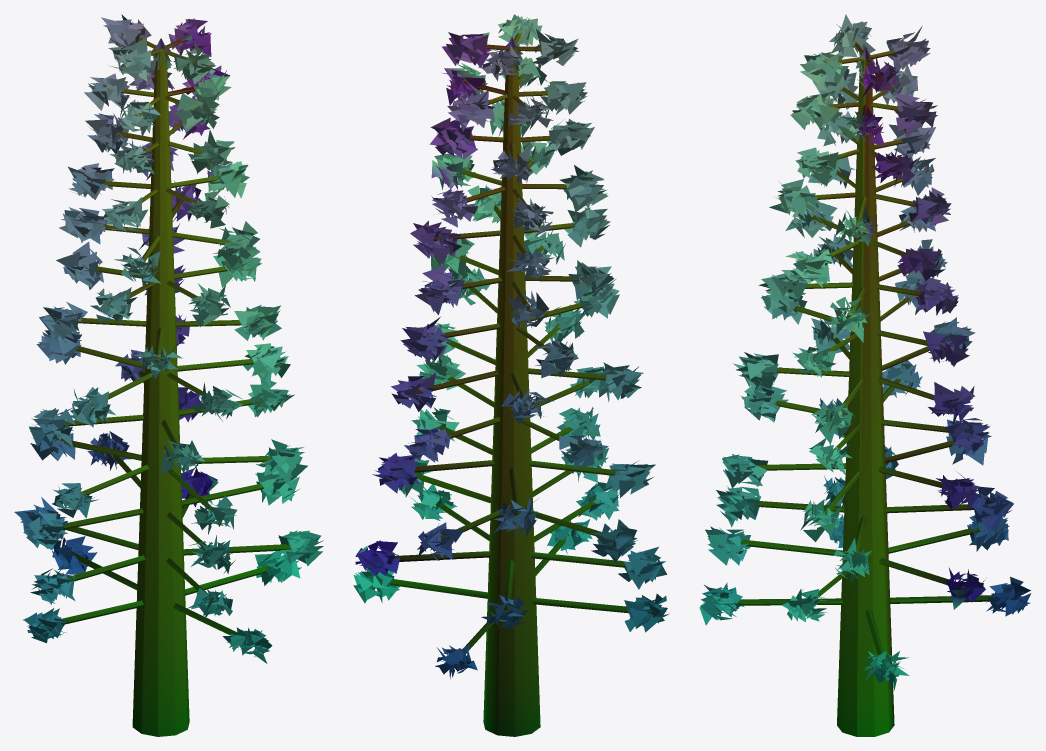
File: ecological_conifer_old_02.glb
3 views of the same model, side by side, from view 1: azimuth 30°, elevation 25°; view 2: azimuth 150°, elevation 25°; view 3: azimuth 270°, elevation 25° (orthographic).
Visible parts, largest first — view 1: ecological_conifer_old_02; view 2: ecological_conifer_old_02; view 3: ecological_conifer_old_02.
Part boxes in pixels (bbox=[...]): ecological_conifer_old_02: bbox=[14, 14, 323, 736]; ecological_conifer_old_02: bbox=[353, 14, 669, 736]; ecological_conifer_old_02: bbox=[699, 14, 1031, 736].
Size of the model in its own units: 15.35 by 34.72 by 15.2.
